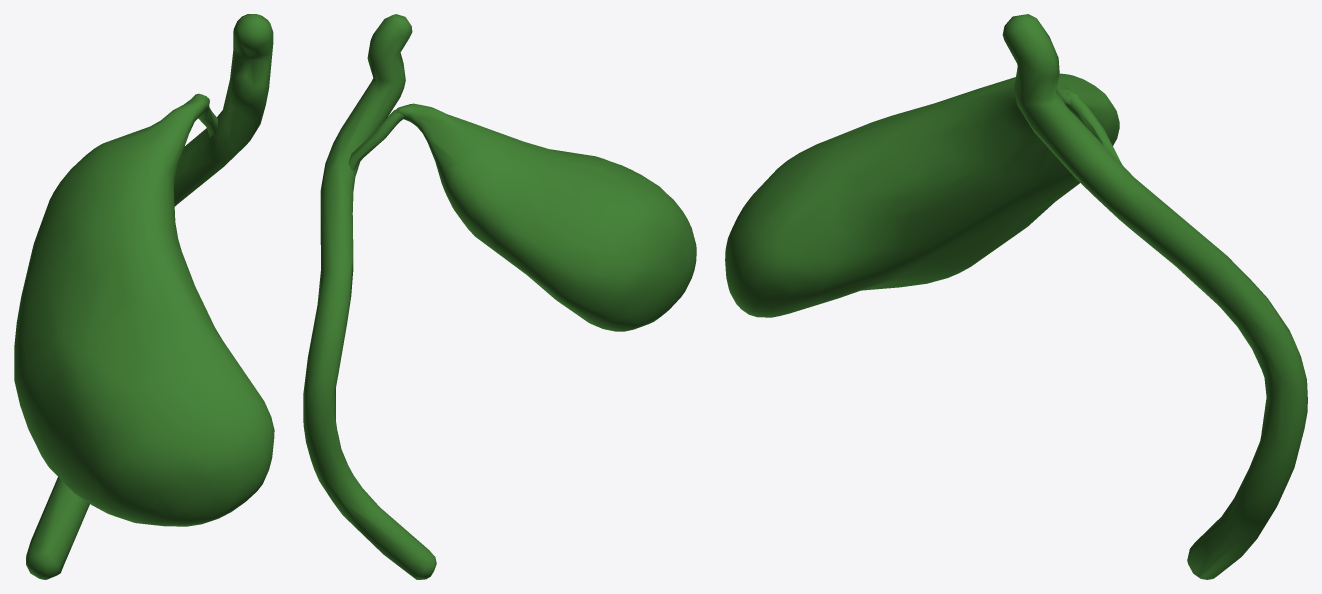
3 views of the same model, side by side, from view 1: azimuth 30°, elevation 25°; view 2: azimuth 150°, elevation 25°; view 3: azimuth 270°, elevation 25° (orthographic). The views are drawn at different scales.
Visible parts, largest first — view 1: ot; view 2: ot; view 3: ot.
Boxes of the visible parts, <box> form: ot: <box>14,14,274,579</box>; ot: <box>303,14,696,579</box>; ot: <box>725,14,1307,579</box>.
Bounding box in the file's own units: 0.0454 × 0.0843 × 0.0715.
